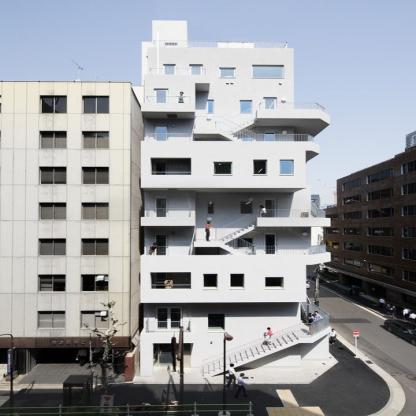Balcony: (202, 314, 330, 377), (195, 227, 325, 261), (195, 116, 313, 147), (221, 210, 325, 241), (227, 102, 325, 131), (153, 41, 287, 52), (146, 322, 191, 338), (144, 208, 191, 223), (145, 246, 189, 261), (146, 96, 191, 108), (151, 285, 193, 295)
Building Outline: (140, 20, 331, 377), (146, 133, 191, 147)
Door: (156, 307, 183, 331), (158, 344, 176, 366), (155, 197, 168, 221), (155, 234, 168, 258), (264, 199, 276, 223), (264, 233, 276, 257), (154, 124, 168, 144), (263, 97, 277, 117), (155, 89, 169, 108), (263, 131, 276, 151), (155, 160, 167, 180), (165, 43, 177, 56)
Facade: (141, 21, 331, 377)
Floor Slab: (141, 338, 313, 343), (142, 147, 313, 151), (141, 261, 307, 265), (141, 223, 330, 226), (141, 295, 307, 298), (299, 327, 330, 343), (141, 180, 306, 183), (148, 53, 293, 56), (258, 116, 325, 121), (142, 108, 195, 112), (194, 241, 221, 247), (194, 129, 219, 133), (306, 259, 325, 264)
Window: (151, 157, 192, 175), (151, 273, 191, 289), (253, 66, 283, 77), (208, 314, 225, 329), (214, 162, 231, 174), (204, 274, 218, 287), (189, 65, 202, 79), (164, 64, 176, 78), (281, 160, 293, 174), (254, 160, 266, 174), (231, 274, 243, 287), (266, 278, 282, 287), (240, 101, 252, 113), (240, 202, 252, 214), (237, 137, 252, 146), (237, 239, 252, 248), (221, 68, 234, 77), (208, 101, 213, 113), (208, 202, 213, 214)
